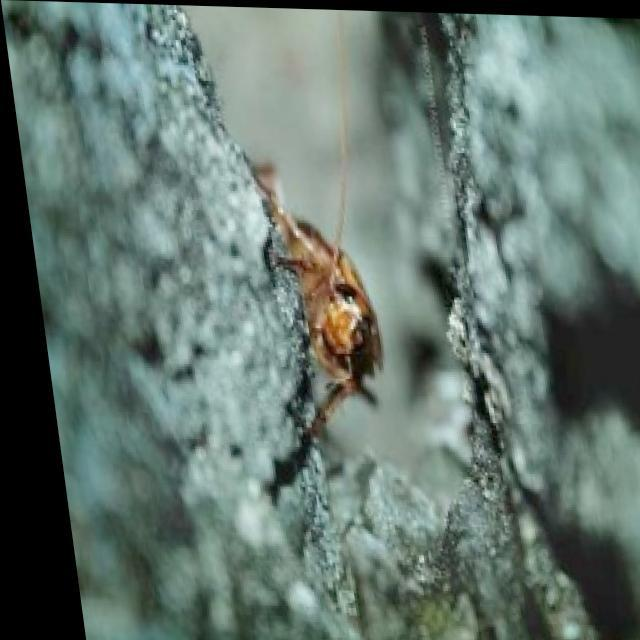cockroach: (245, 158, 388, 507)
